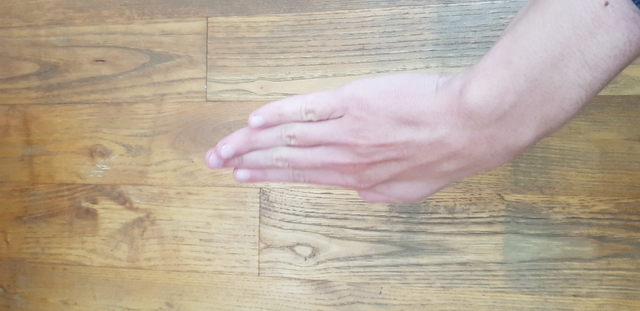Paper: (170, 69, 531, 225)
